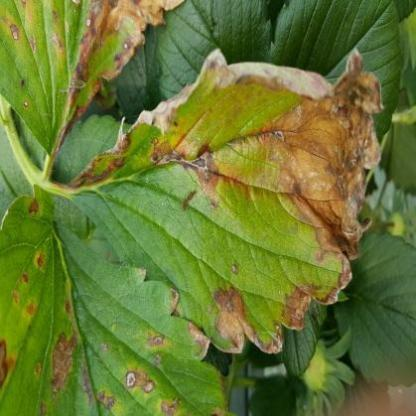Strawberry_Angular_LeafSpot: (47, 47, 386, 354), (0, 185, 230, 416), (0, 0, 188, 177)
